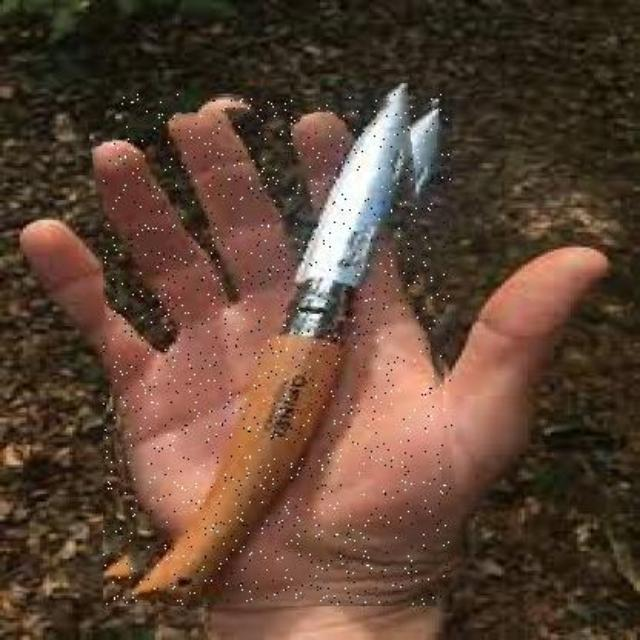Knife: (104, 92, 452, 606)
